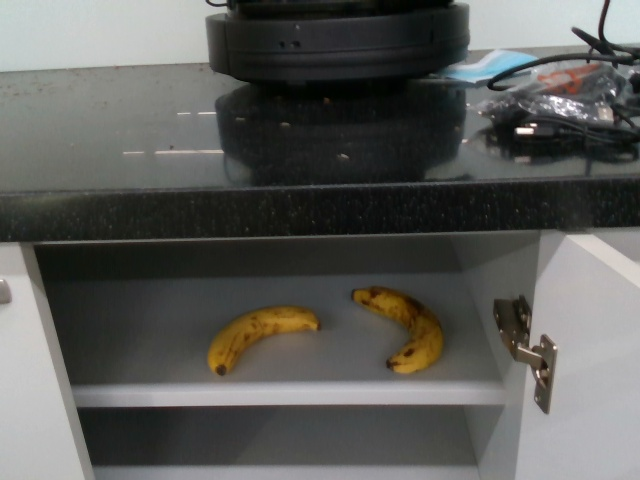banana: (350, 283, 446, 376), (202, 305, 320, 376)
